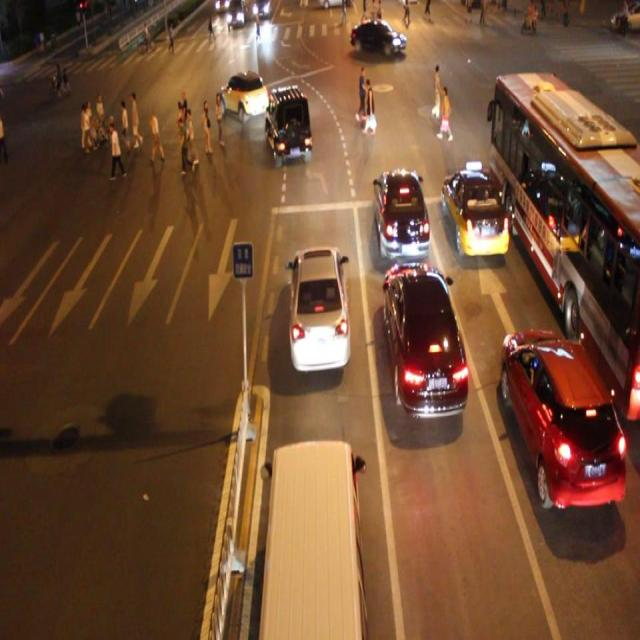car: (501, 324, 623, 502), (380, 262, 467, 415), (289, 244, 350, 370), (441, 170, 508, 260), (372, 167, 429, 264), (266, 85, 311, 163), (220, 68, 268, 120), (349, 18, 406, 58)
truck: (260, 435, 363, 640)
van: (491, 71, 640, 418)
